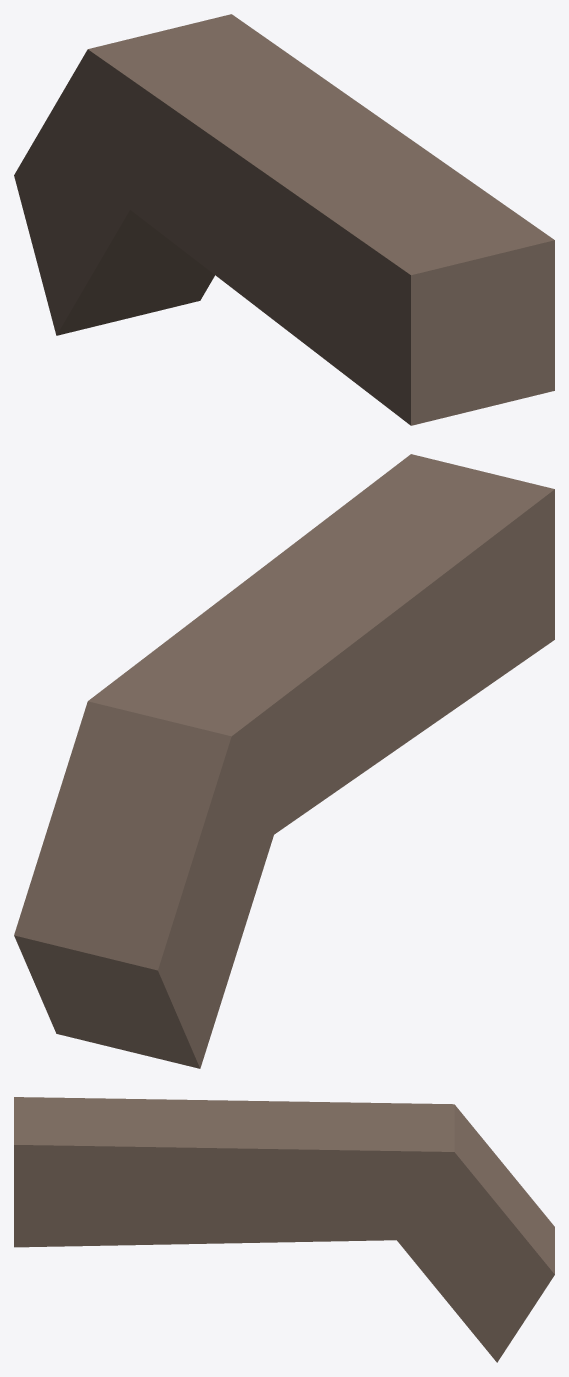
Rendered from Cadavifier.fbx.
The picture shows the model from 3 angles, top to bottom: view 1: azimuth 30°, elevation 25°; view 2: azimuth 150°, elevation 25°; view 3: azimuth 270°, elevation 25°; orthographic projection. The views are drawn at different scales.
Visible parts, largest first — view 1: Cube; view 2: Cube; view 3: Cube.
Part boxes in pixels (left/top/right/bottom): Cube: left=14, top=14, right=554, bottom=425; Cube: left=14, top=454, right=554, bottom=1068; Cube: left=14, top=1097, right=554, bottom=1362.
Size of the model in its own units: 39.86 by 84.75 by 190.
